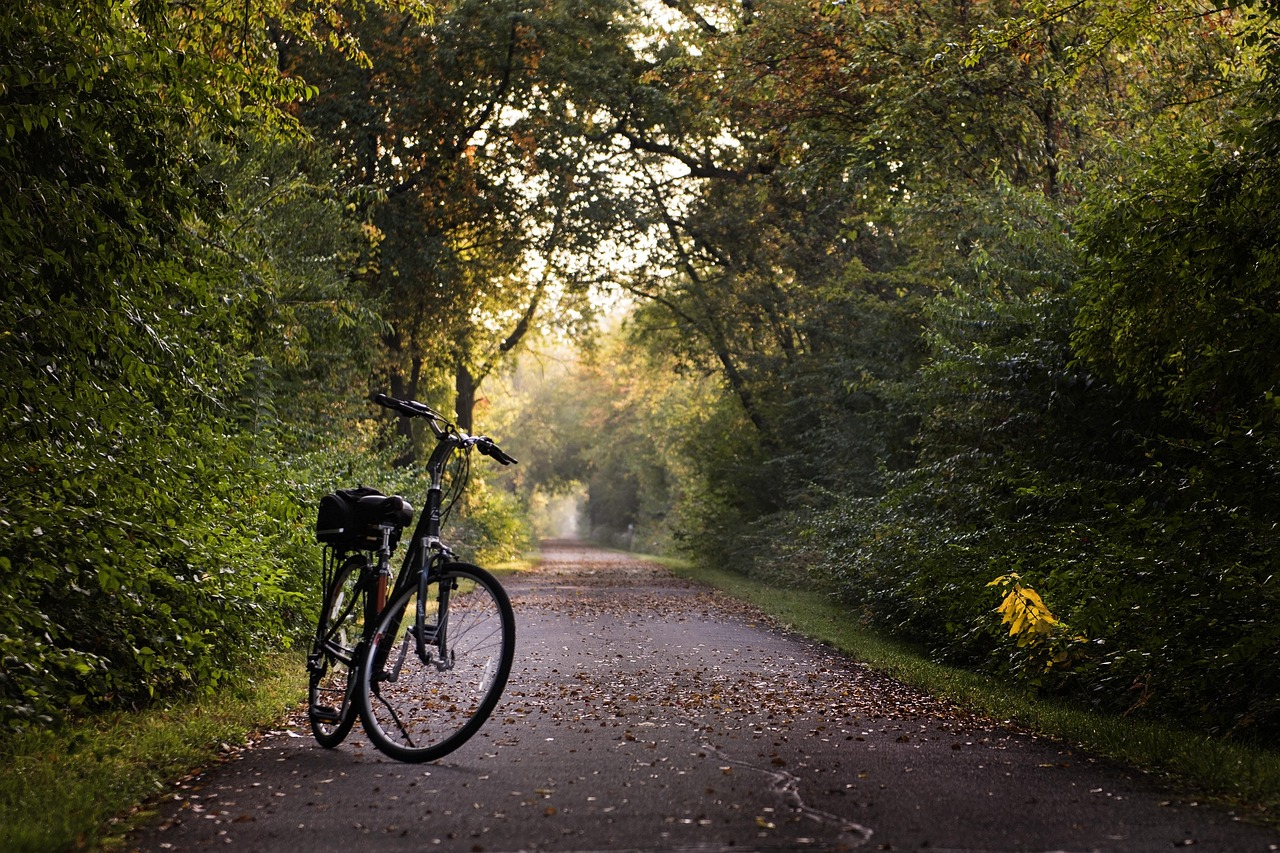Cycle: (250, 383, 621, 806)
